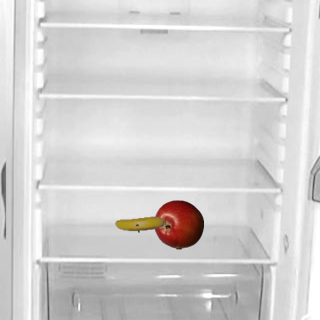Apple Braeburn: (153, 199, 203, 249)
Banana: (114, 199, 164, 249)
